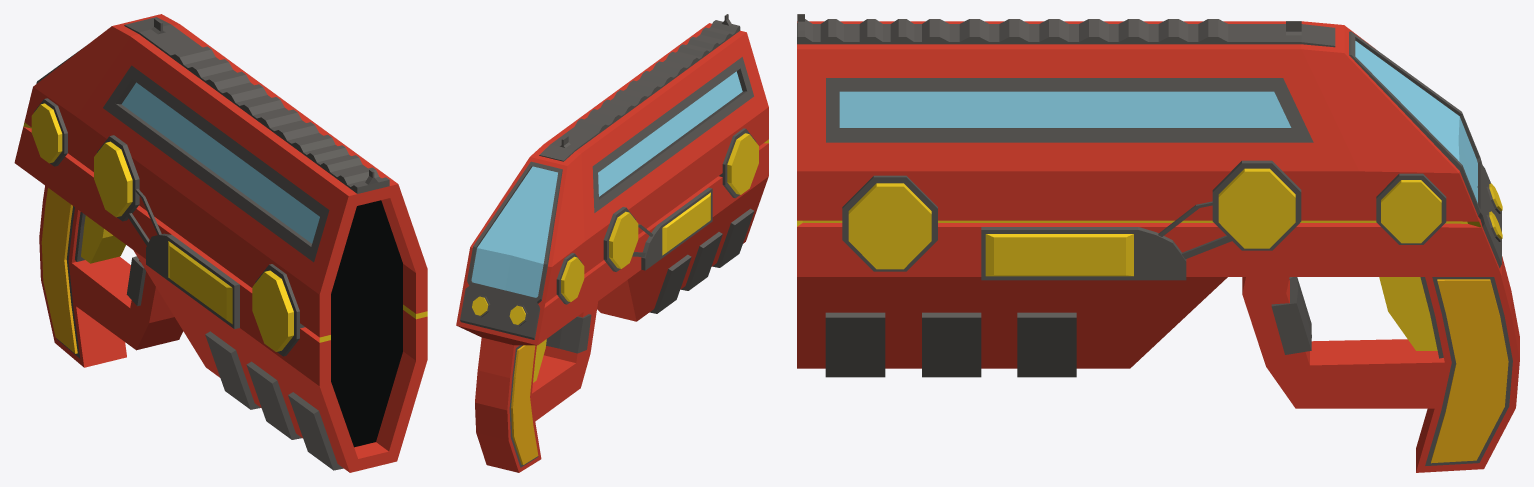
The model's file is pistol.fbx.
3 views of the same model, side by side, from view 1: azimuth 30°, elevation 25°; view 2: azimuth 150°, elevation 25°; view 3: azimuth 270°, elevation 25° (orthographic). The views are drawn at different scales.
Visible parts, largest first — view 1: pistol; view 2: pistol; view 3: pistol.
Boxes of the visible parts, x1,y1,x2,y2 form: pistol: (14, 14, 427, 472); pistol: (456, 14, 768, 472); pistol: (797, 14, 1519, 472).
Size of the model in its own units: 0.248 by 1.05 by 0.7164.
